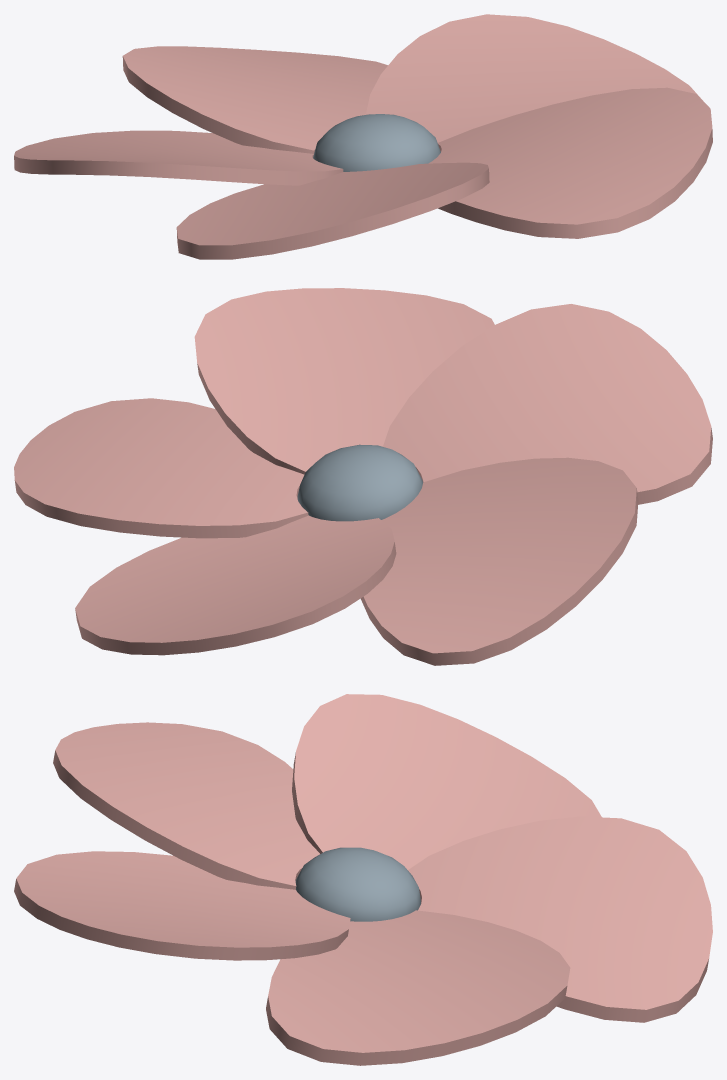
The model's file is PinkFlower.fbx.
3 views of the same model, one above another, from view 1: azimuth 30°, elevation 25°; view 2: azimuth 150°, elevation 25°; view 3: azimuth 270°, elevation 25° (orthographic).
Visible parts, largest first — view 1: group5; view 2: group5; view 3: group5.
Part boxes in pixels (x1=…): group5: x1=14, y1=14, x2=712, y2=259; group5: x1=14, y1=288, x2=712, y2=665; group5: x1=14, y1=694, x2=712, y2=1065.
Size of the model in its own units: 4.42 by 1.1 by 4.41.
